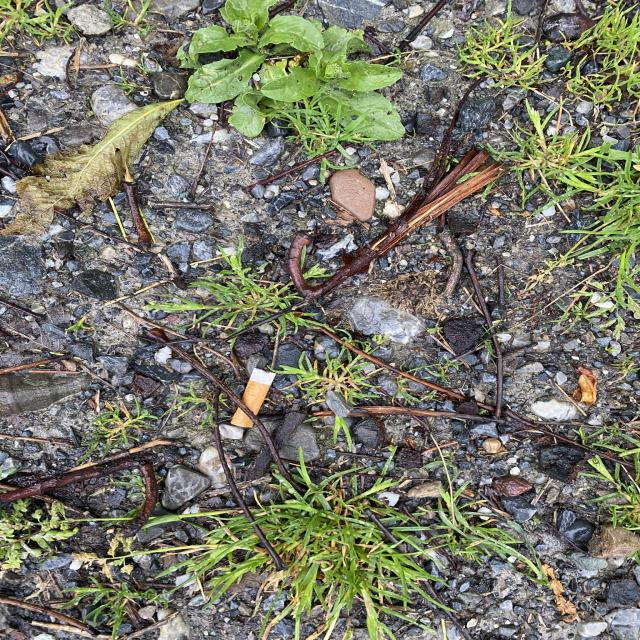other waste: (230, 367, 276, 428)
